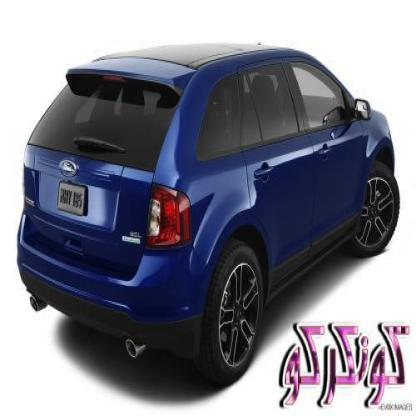Vehicle: (15, 43, 403, 388)
